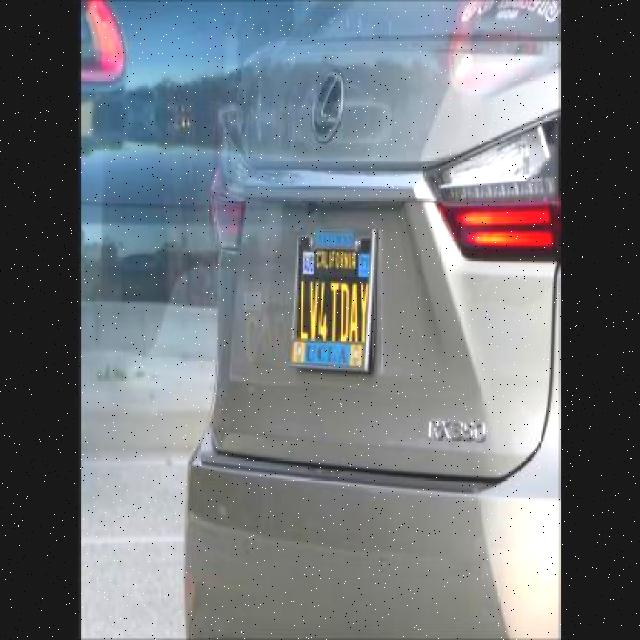licenseplate: (294, 235, 372, 374)
